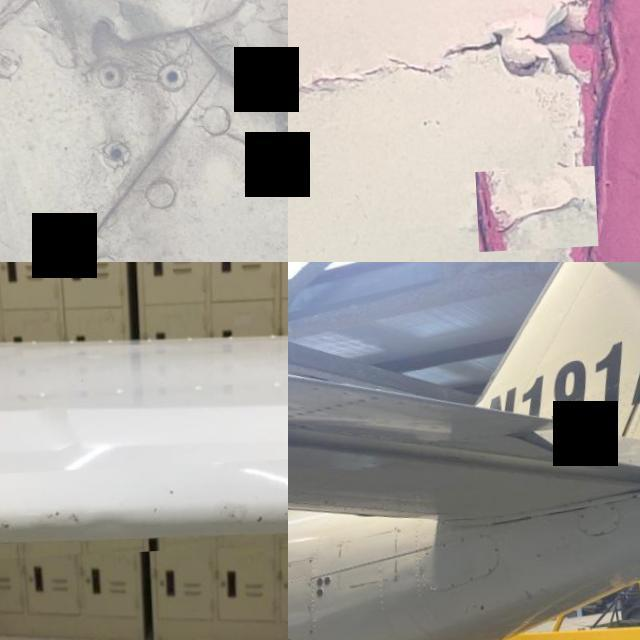Crack: (288, 0, 622, 127), (0, 457, 288, 567), (470, 172, 592, 256), (269, 75, 288, 139)
Missing_Fastener: (476, 536, 482, 542), (445, 586, 451, 589), (482, 572, 488, 575), (427, 588, 430, 592)
